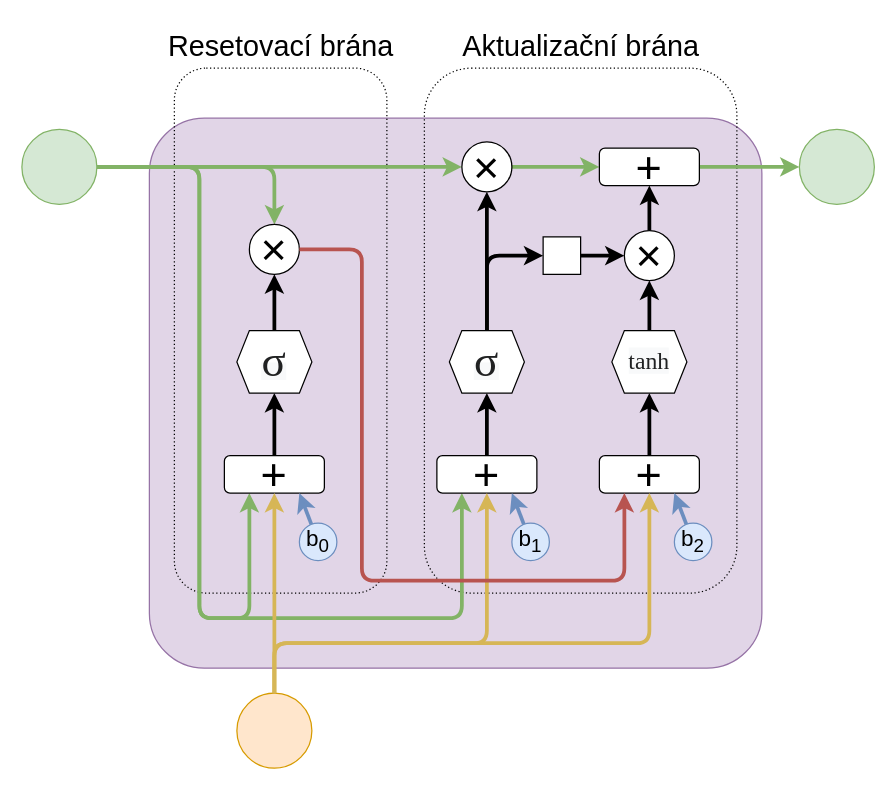
Image size: 896x790. Some labels were removed from this diagram. The shapes that lost their labels are listed below. From the top down, each one's centre as x and y in pixels, then its label:
At point 59,166: "h t-1".
At point 836,166: "h t".
At point 561,255: "1-x".
At point 274,730: "x t".
